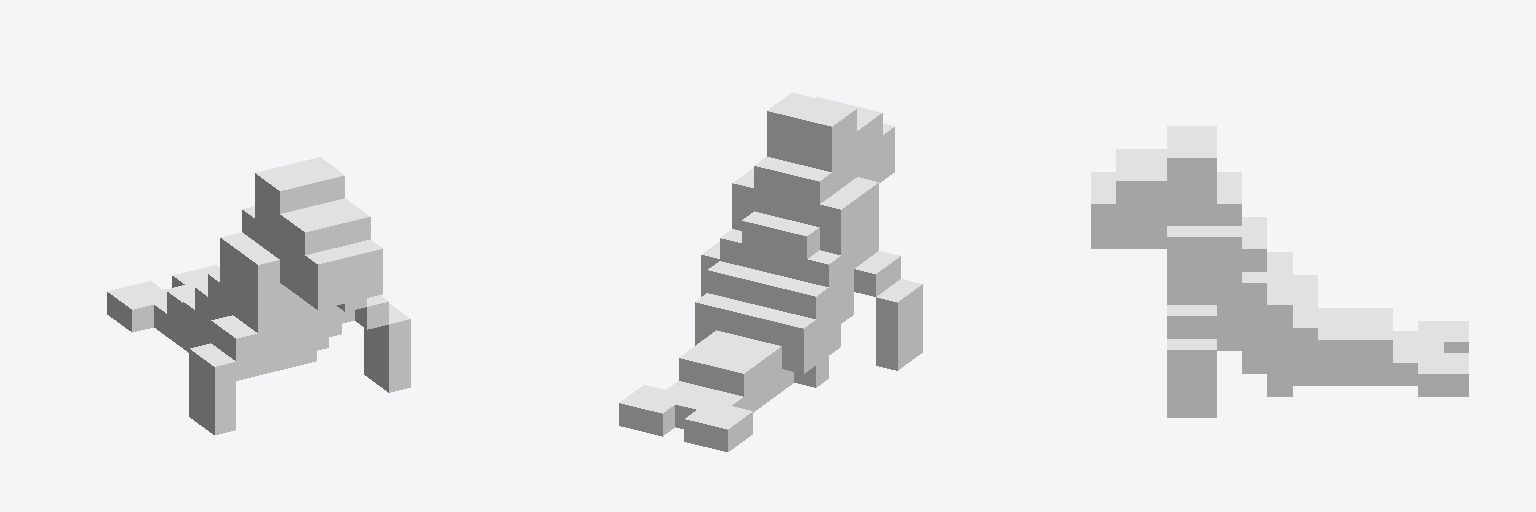
The model's file is tulen.obj.
3 views of the same model, side by side, from view 1: azimuth 30°, elevation 25°; view 2: azimuth 150°, elevation 25°; view 3: azimuth 270°, elevation 25° (orthographic).
Visible parts, largest first — view 1: object 1; view 2: object 1; view 3: object 1.
Part boxes in pixels (left/top/right/bottom): object 1: left=107, top=157, right=410, bottom=434; object 1: left=619, top=93, right=922, bottom=451; object 1: left=1091, top=126, right=1468, bottom=417.
Bounding box in the file's own units: 0.9 × 1 × 1.5.